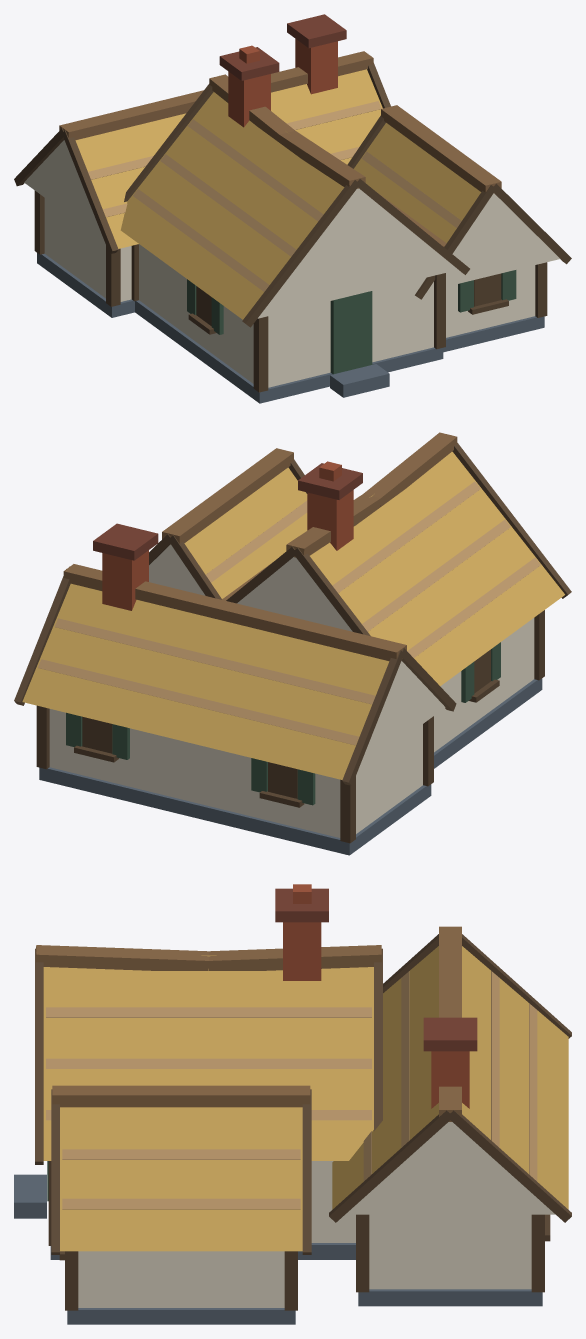
Rendered from cottage-c2.glb.
The picture shows the model from 3 angles, top to bottom: view 1: azimuth 30°, elevation 25°; view 2: azimuth 150°, elevation 25°; view 3: azimuth 270°, elevation 25°; orthographic projection. The views are drawn at different scales.
Parts seen in each view (by area): view 1: house, accent; view 2: house, accent; view 3: house.
Boxes of the visible parts, x1,y1,x2,y2 form: house: [14, 14, 571, 403]; accent: [187, 270, 516, 374]; house: [14, 432, 571, 855]; accent: [66, 642, 500, 805]; house: [14, 884, 571, 1324].
Size of the model in its own units: 8.99 by 6.36 by 10.16.
1 material, 1 textured.
